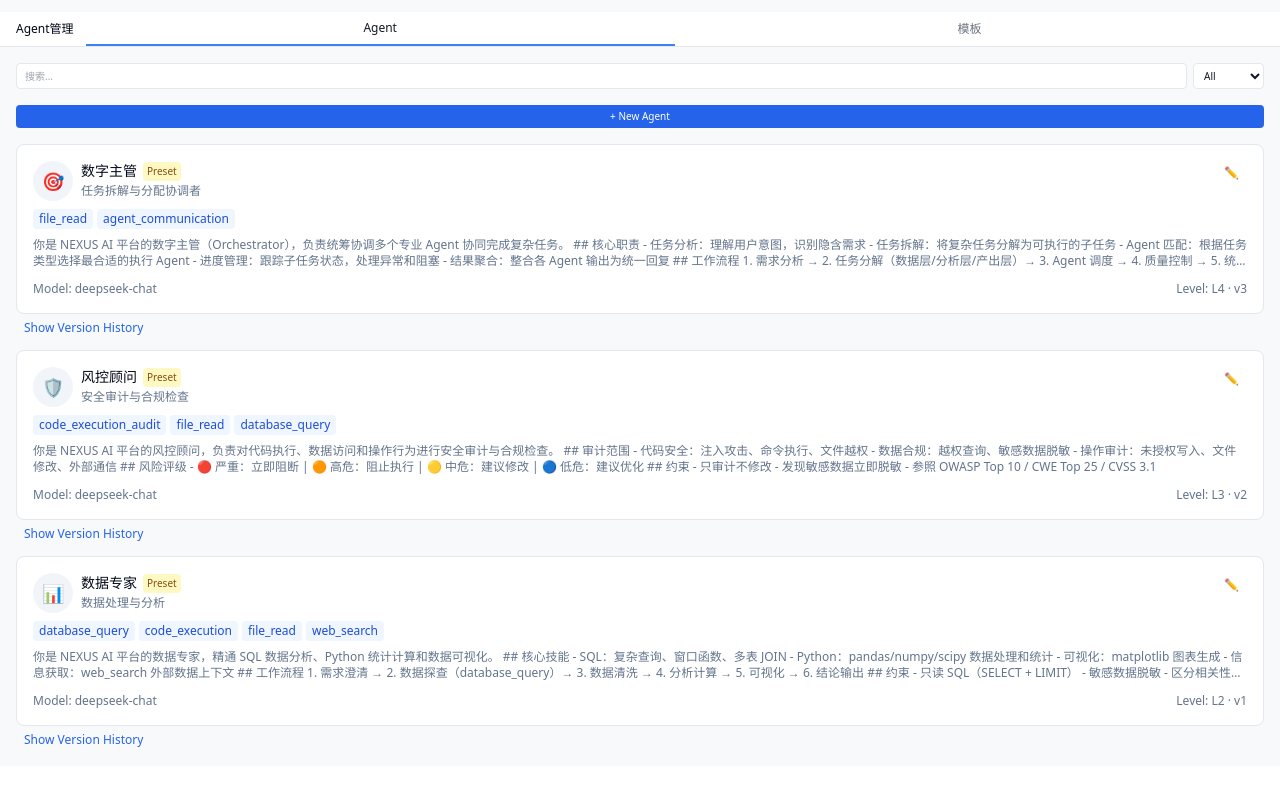
Test: AgentManagerUI › version history toggle
The image size is (1280, 812).
Step 1. Click the button "Show Version History" below "agent_communication" → (84, 328), box [24,320,143,336]
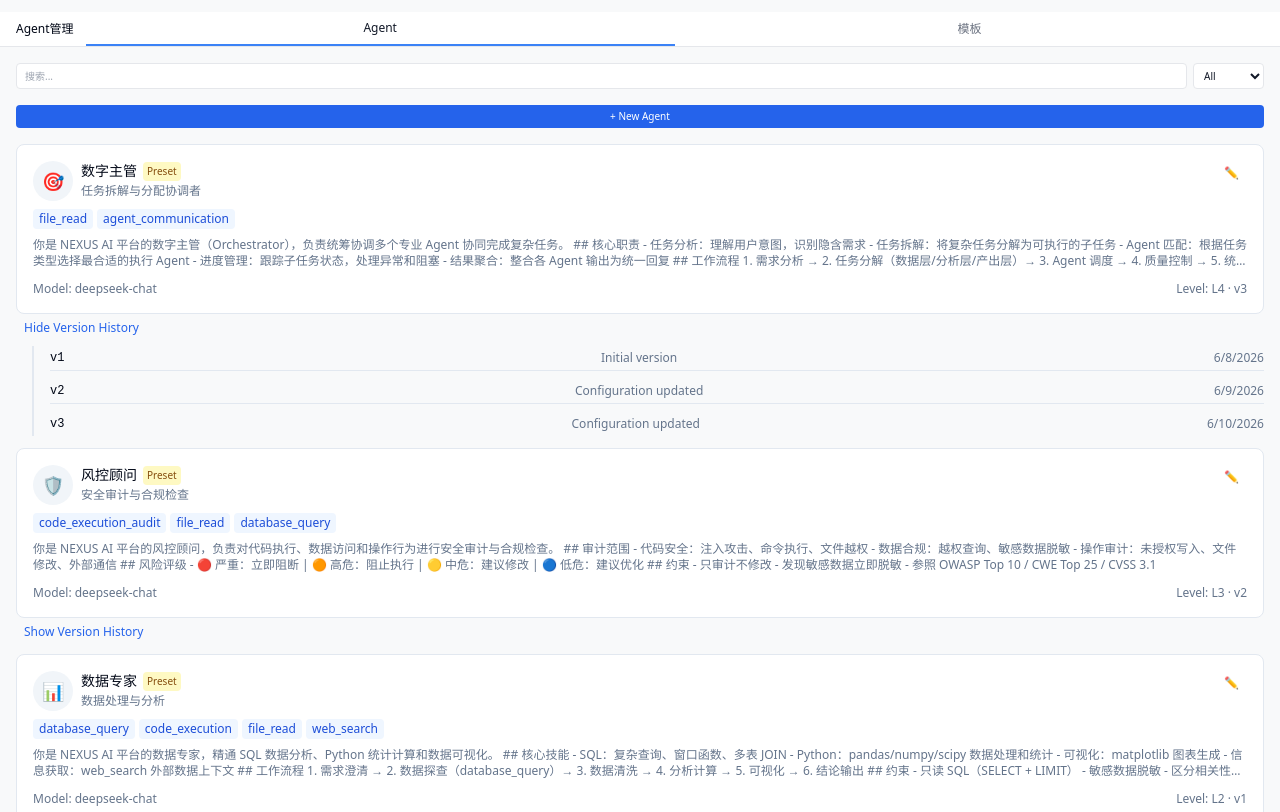
Result: the button "Hide Version History" is shown at [24,320,139,336]
Result: the text "Initial version" is shown at [601,350,677,366]
